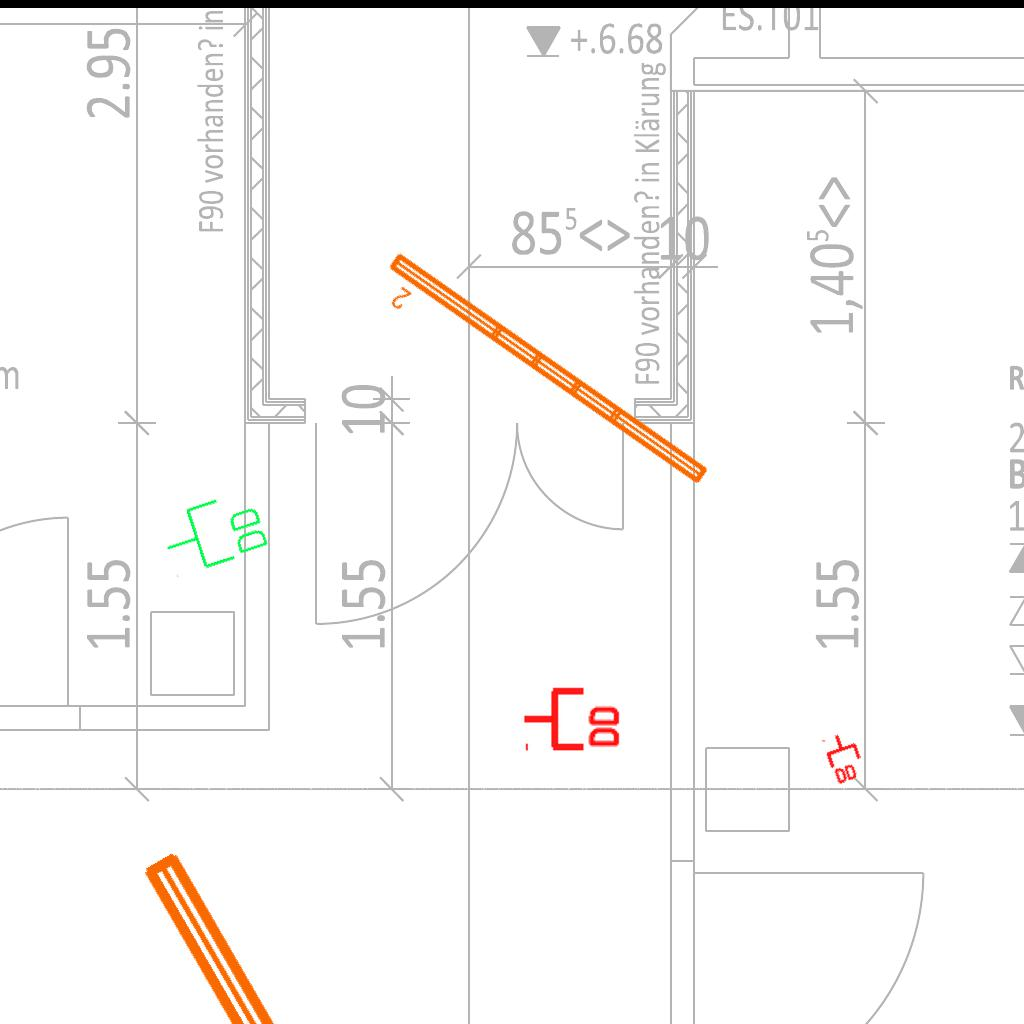Ambulanz_Pendelleuchte_LED: (127, 810, 611, 1024), (366, 245, 717, 513)
Datenanschluss_zweifach: (154, 484, 275, 583), (521, 683, 624, 752), (820, 727, 870, 788)
